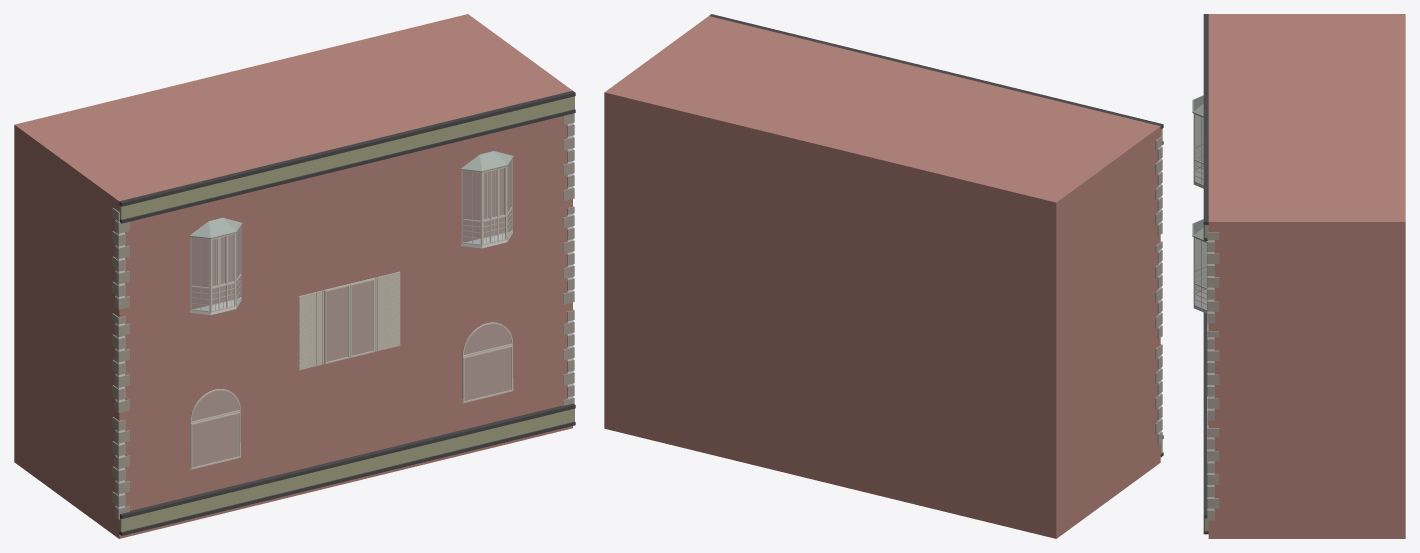
Rendered from last_build_5.fbx.
3 views of the same model, side by side, from view 1: azimuth 30°, elevation 25°; view 2: azimuth 150°, elevation 25°; view 3: azimuth 270°, elevation 25° (orthographic). The views are drawn at different scales.
Parts seen in each view (by area): view 1: building_5; view 2: building_5; view 3: building_5.
Boxes of the visible parts, left/top/right/bottom form: building_5: left=14, top=14, right=575, bottom=538; building_5: left=604, top=14, right=1163, bottom=538; building_5: left=1192, top=14, right=1405, bottom=538.
Bounding box in the file's own units: 226 × 160 × 97.43.
